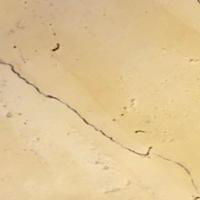crack: (0, 48, 150, 199)
